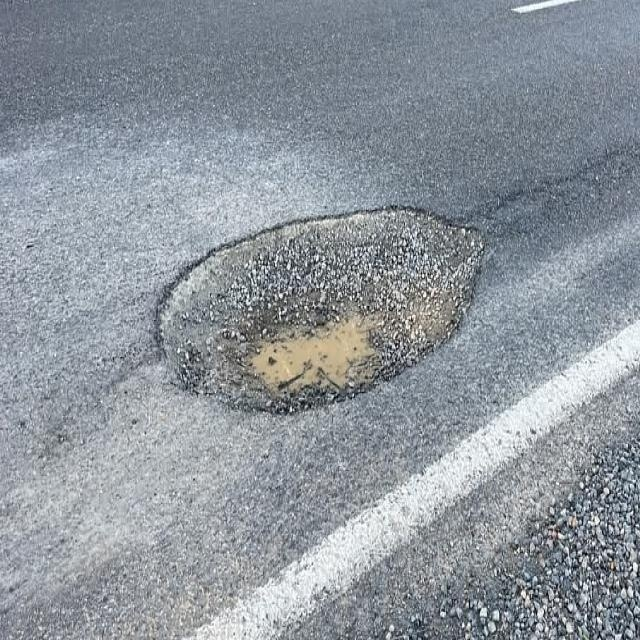pothole: (125, 158, 515, 454)
